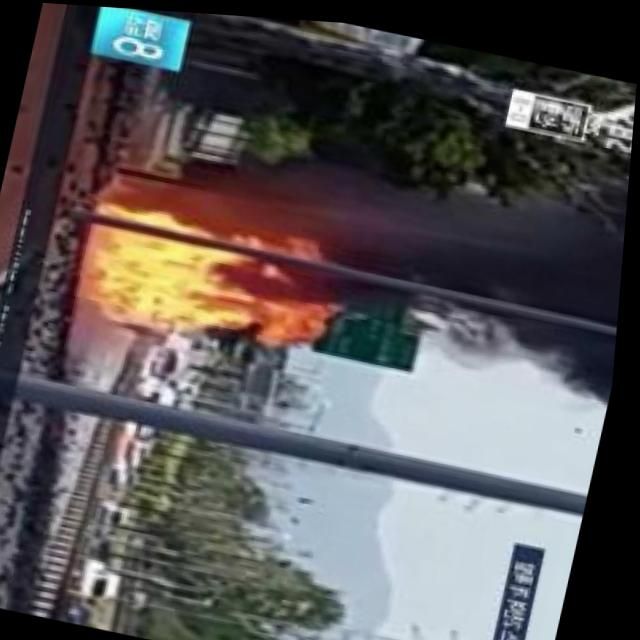Fire: (66, 207, 263, 342)
